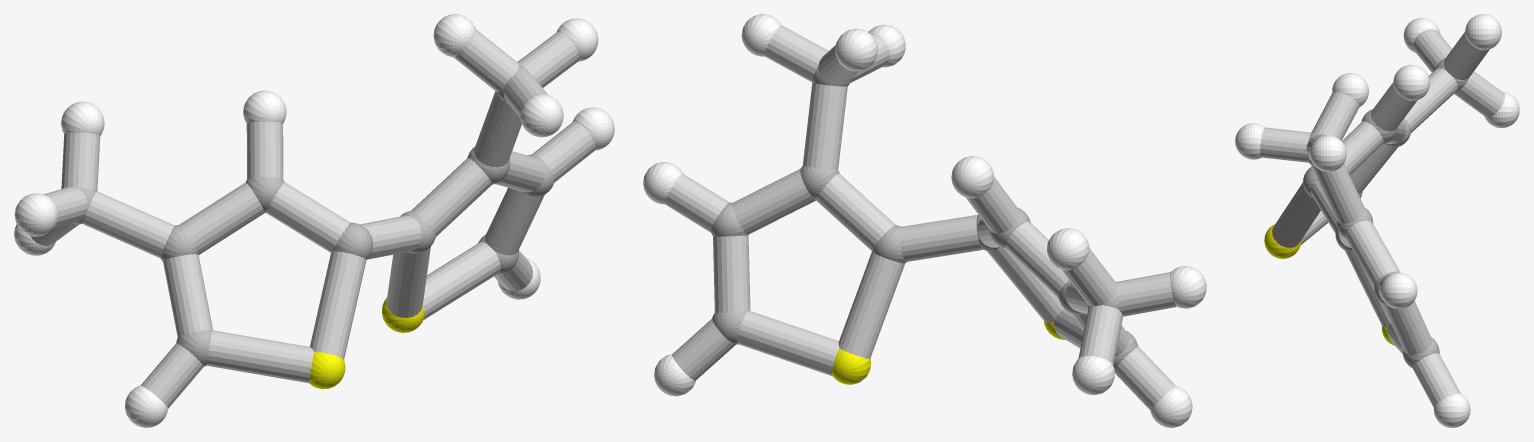
File: Methylthiophene_Phi_50_Theta_240_Methylthiophene.glb
The picture shows the model from 3 angles, left to right: view 1: azimuth 30°, elevation 25°; view 2: azimuth 150°, elevation 25°; view 3: azimuth 270°, elevation 25°; orthographic projection. The views are drawn at different scales.
Visible parts, largest first — view 1: grp7965, grp3621, grp1, grp7241; view 2: grp7965, grp3621, grp1, grp7241; view 3: grp7965, grp3621, grp1, grp7241.
Part boxes in pixels (x1=…): grp7965: x1=30, y1=29, x2=596, y2=408; grp3621: x1=14, y1=14, x2=614, y2=427; grp1: x1=73, y1=64, x2=554, y2=366; grp7241: x1=309, y1=298, x2=424, y2=389; grp7965: x1=664, y1=25, x2=1176, y2=409; grp3621: x1=643, y1=14, x2=1206, y2=427; grp1: x1=711, y1=66, x2=1137, y2=367; grp7241: x1=832, y1=321, x2=1065, y2=384; grp7965: x1=1260, y1=29, x2=1504, y2=407; grp3621: x1=1235, y1=14, x2=1519, y2=427; grp1: x1=1303, y1=58, x2=1468, y2=367; grp7241: x1=1264, y1=224, x2=1394, y2=345.
Size of the model in its own units: 9.23 by 5.41 by 4.64.
